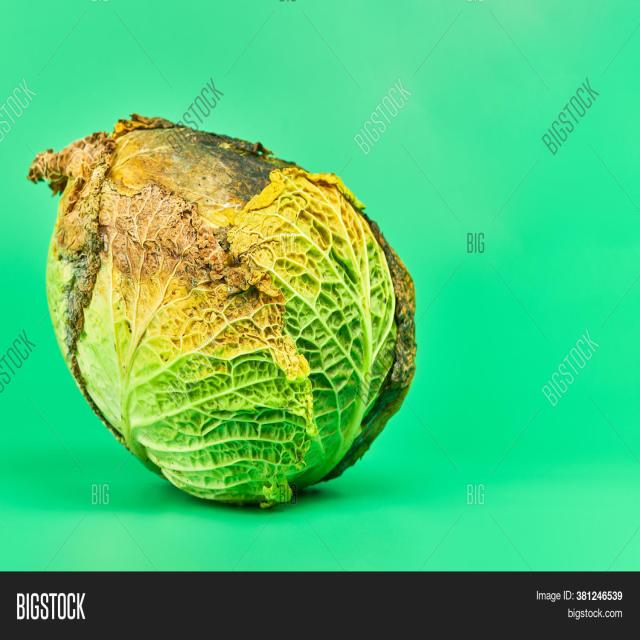rotten cabbage: (28, 87, 436, 517)
